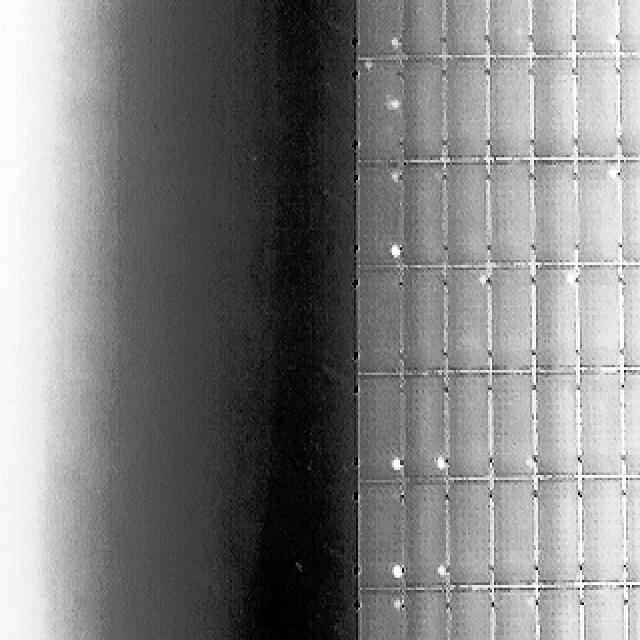Hotspots: (382, 562, 399, 585), (563, 270, 580, 292), (431, 449, 447, 471), (385, 96, 401, 118), (384, 239, 398, 262), (605, 163, 619, 185), (388, 171, 400, 189), (386, 36, 399, 50), (388, 457, 400, 472)
PV-modules: (401, 375, 452, 483), (401, 265, 450, 372), (436, 56, 487, 158), (446, 482, 494, 590), (534, 156, 582, 264), (537, 372, 584, 480), (400, 485, 447, 593), (488, 270, 535, 376), (487, 161, 534, 267), (491, 482, 537, 590), (577, 370, 622, 480), (399, 62, 447, 165), (399, 165, 447, 268), (488, 374, 534, 481), (440, 267, 486, 374), (572, 156, 618, 263), (581, 481, 627, 588), (355, 376, 400, 485), (447, 376, 493, 482), (356, 267, 401, 375), (572, 266, 618, 371), (538, 482, 582, 591), (570, 54, 617, 156), (356, 486, 400, 594), (445, 163, 490, 268), (354, 163, 398, 270), (535, 270, 580, 374), (488, 60, 533, 161), (356, 63, 400, 165), (534, 60, 578, 161), (395, 0, 445, 58), (528, 0, 578, 56), (578, 582, 626, 640), (572, 0, 620, 56), (439, 0, 486, 57), (354, 0, 399, 58), (400, 592, 454, 640), (487, 0, 531, 57), (490, 587, 536, 640), (618, 160, 640, 265), (618, 58, 640, 160), (444, 592, 490, 640), (540, 590, 584, 640), (620, 370, 640, 475), (356, 590, 398, 640), (620, 268, 640, 370), (622, 480, 640, 588), (614, 0, 640, 52), (630, 582, 640, 640)
